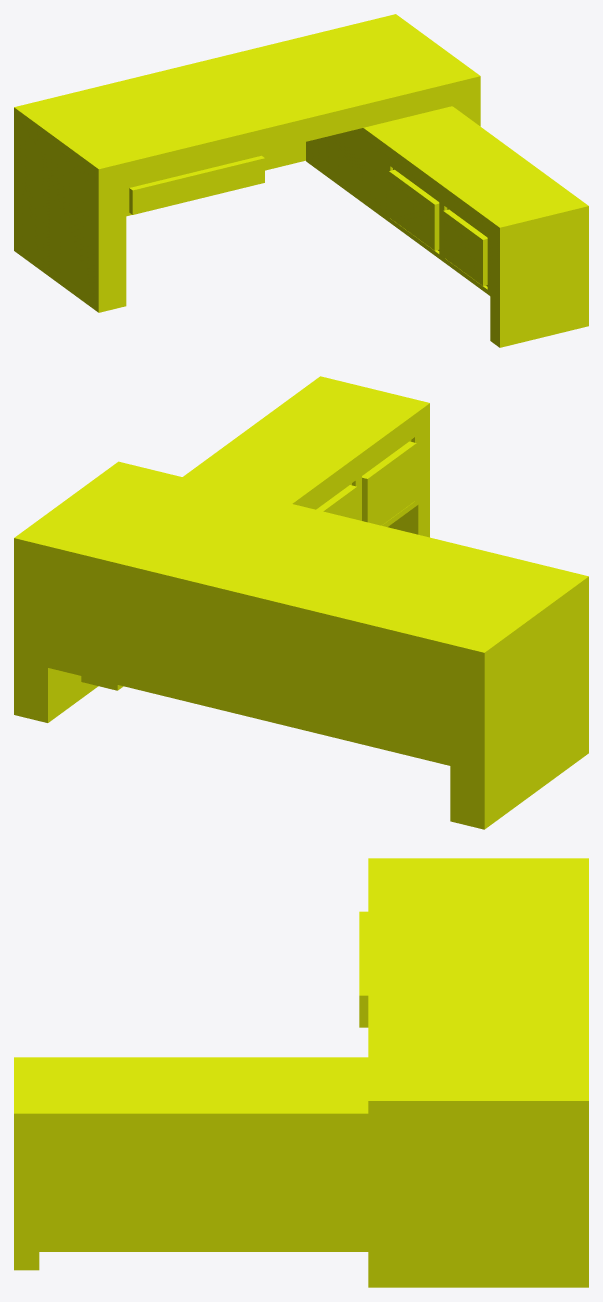
Rendered from Desk3.FBX.
The picture shows the model from 3 angles, top to bottom: view 1: azimuth 30°, elevation 25°; view 2: azimuth 150°, elevation 25°; view 3: azimuth 270°, elevation 25°; orthographic projection. The views are drawn at different scales.
Visible parts, largest first — view 1: Box013; view 2: Box013; view 3: Box013.
Boxes of the visible parts, box(x1,y1,x2,y2) form: Box013: box(14, 14, 588, 347); Box013: box(14, 376, 588, 829); Box013: box(14, 858, 588, 1287).
Bounding box in the file's own units: 3.38 × 1.22 × 3.39.
